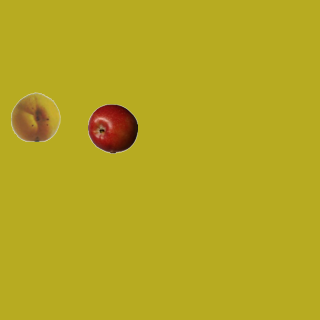Apple Braeburn: (87, 103, 137, 153)
Peach 2: (10, 91, 60, 141)
